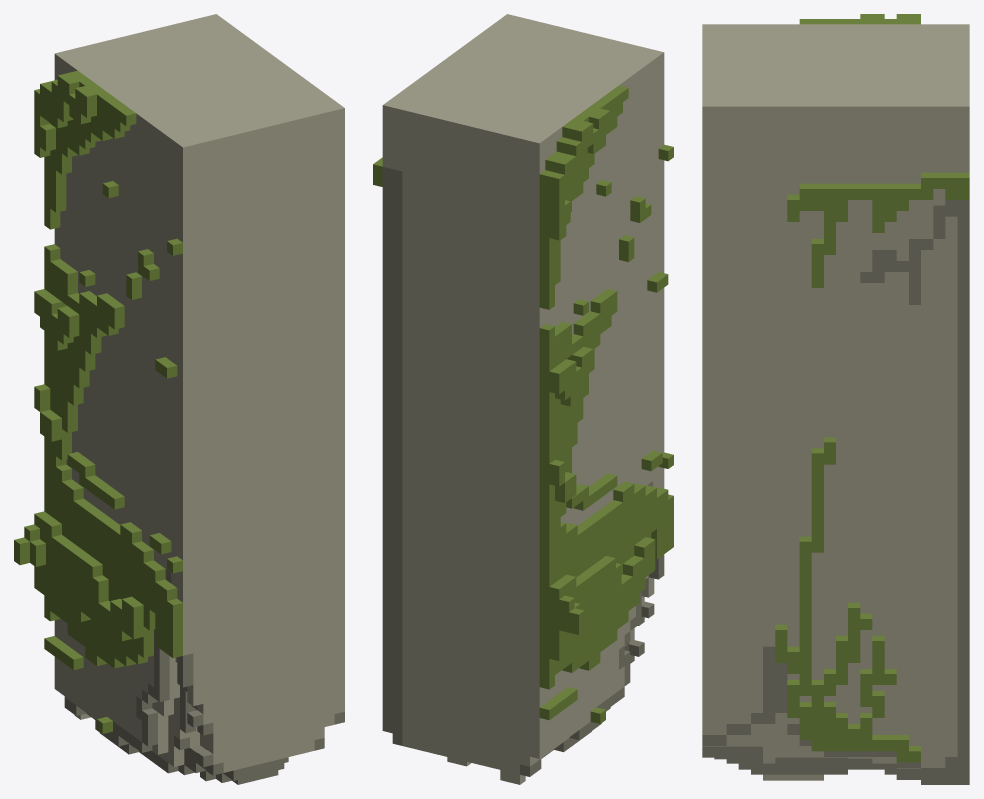
Rendered from forest1.3-17.obj.
The picture shows the model from 3 angles, left to right: view 1: azimuth 30°, elevation 25°; view 2: azimuth 150°, elevation 25°; view 3: azimuth 270°, elevation 25°; orthographic projection. The views are drawn at different scales.
Size of the model in its own units: 2.1 by 6.3 by 2.2.
Materials: 1 (1 with a texture image).
